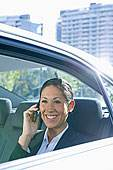talk: (20, 94, 67, 142)
